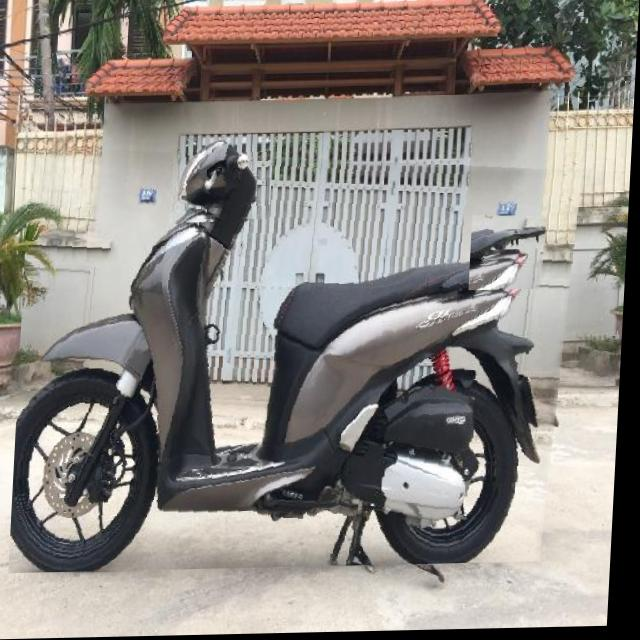All: (14, 137, 586, 573)
Head: (172, 142, 275, 225)
Tail: (472, 216, 550, 293)
